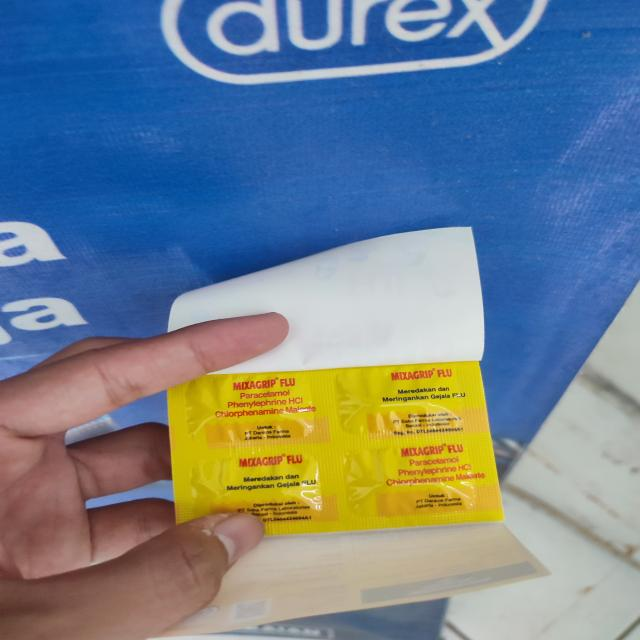B3: (155, 228, 553, 636)
